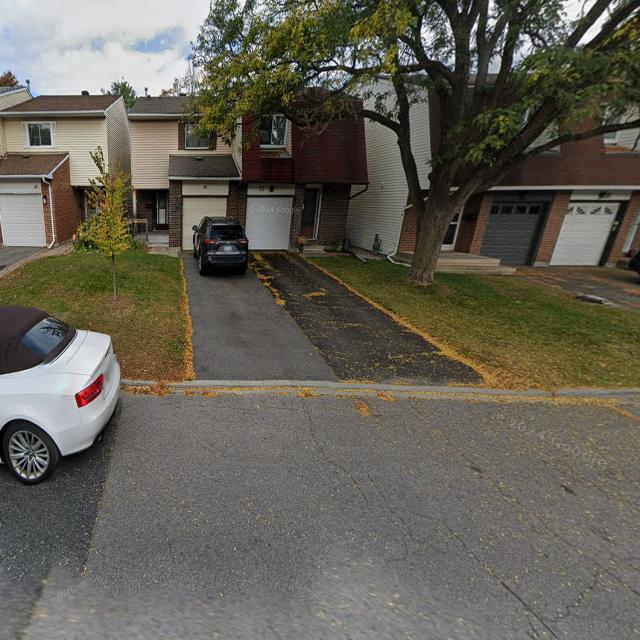Door: (300, 186, 321, 239)
curb: (125, 381, 639, 403)
obstacle: (0, 296, 124, 484), (191, 217, 250, 276)
walkways: (180, 249, 489, 380)
